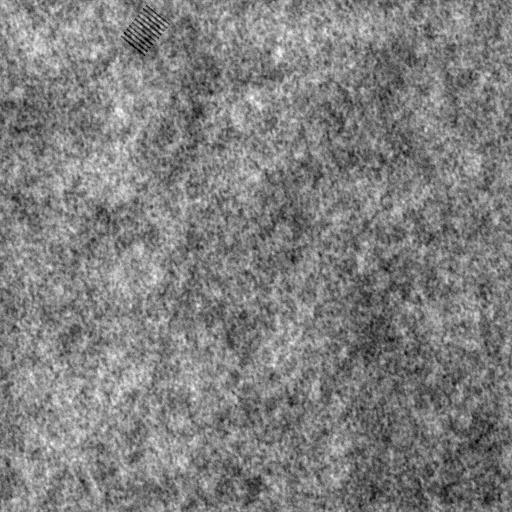DefectTypeB: (119, 5, 167, 55)
